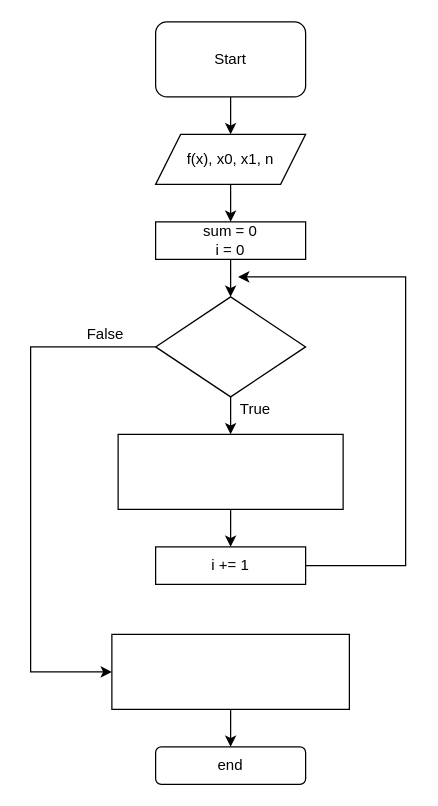
Image size: 438x806. Some labels were removed from this diagram. Here are the shapes that lost their labels. From the top down, the centre of each, then its label:
At point 230,346: "i < n".
At point 230,471: "x_i = rand(x0, x1) sum += f(x_i)".
At point 230,671: "integral = sum / (N-1) * (x1-x0)".
